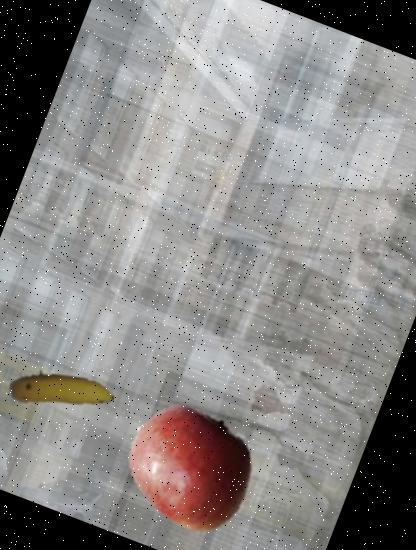Apple: (106, 382, 275, 550)
Banana: (0, 322, 129, 458)
